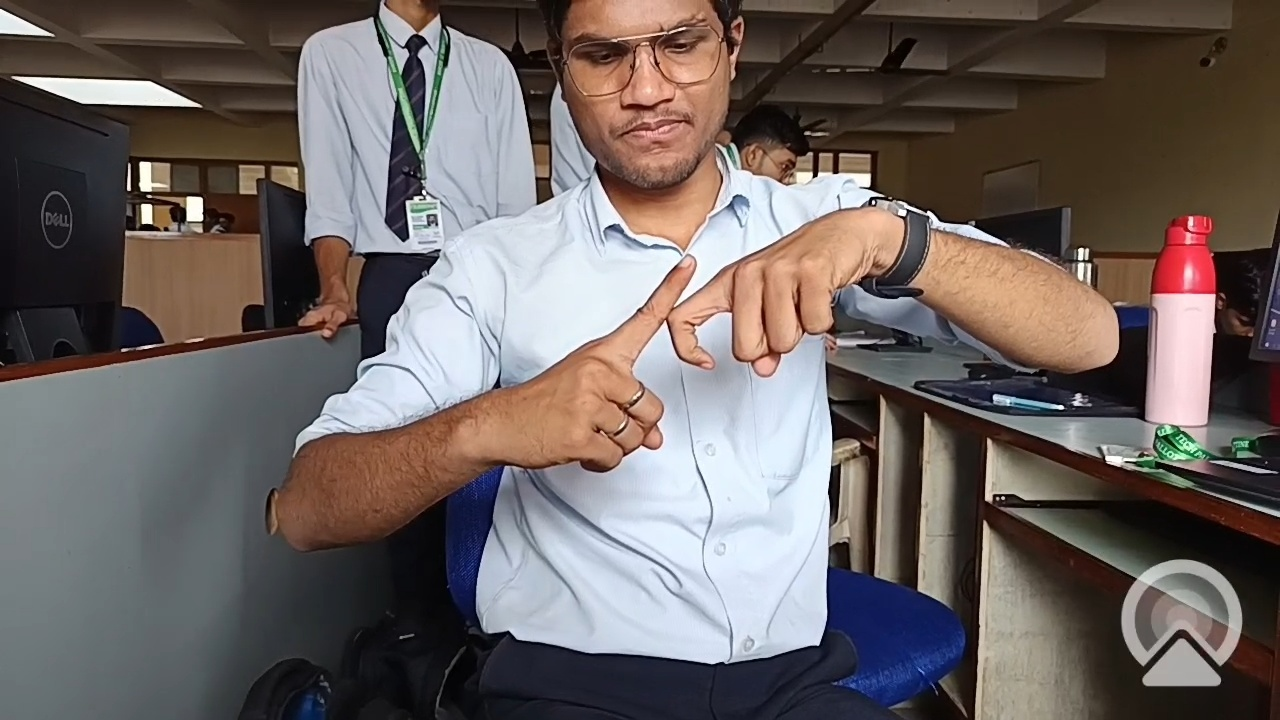K: (494, 202, 895, 554)
